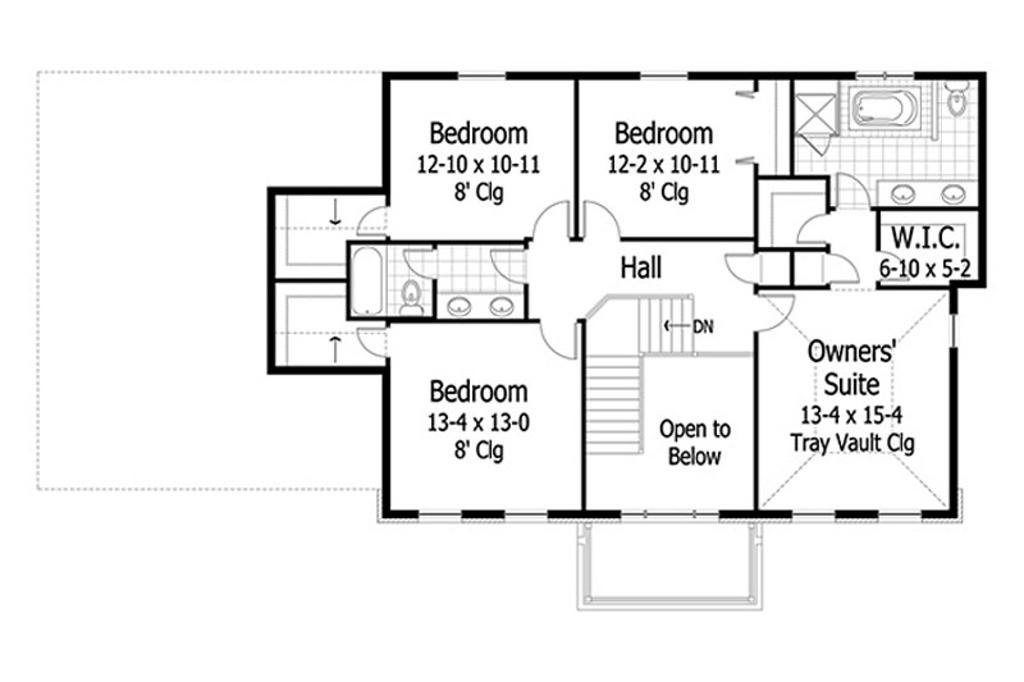door: (537, 316, 581, 364), (487, 241, 529, 290), (530, 198, 572, 246), (753, 292, 797, 337), (577, 198, 619, 244), (832, 169, 873, 211), (722, 250, 760, 291), (400, 244, 438, 280), (350, 323, 390, 357), (351, 202, 387, 236), (828, 252, 861, 287), (794, 213, 828, 245)
large_sink: (396, 275, 430, 322), (942, 78, 972, 121)
small_sink: (873, 176, 980, 209), (435, 293, 530, 320)
stairs: (583, 295, 701, 457)
tub: (845, 83, 928, 140), (347, 240, 391, 321)
windows: (620, 502, 727, 524), (787, 503, 846, 526), (866, 505, 927, 526), (500, 504, 549, 529), (632, 67, 692, 86), (408, 507, 465, 525), (455, 67, 510, 84), (948, 308, 964, 352)
